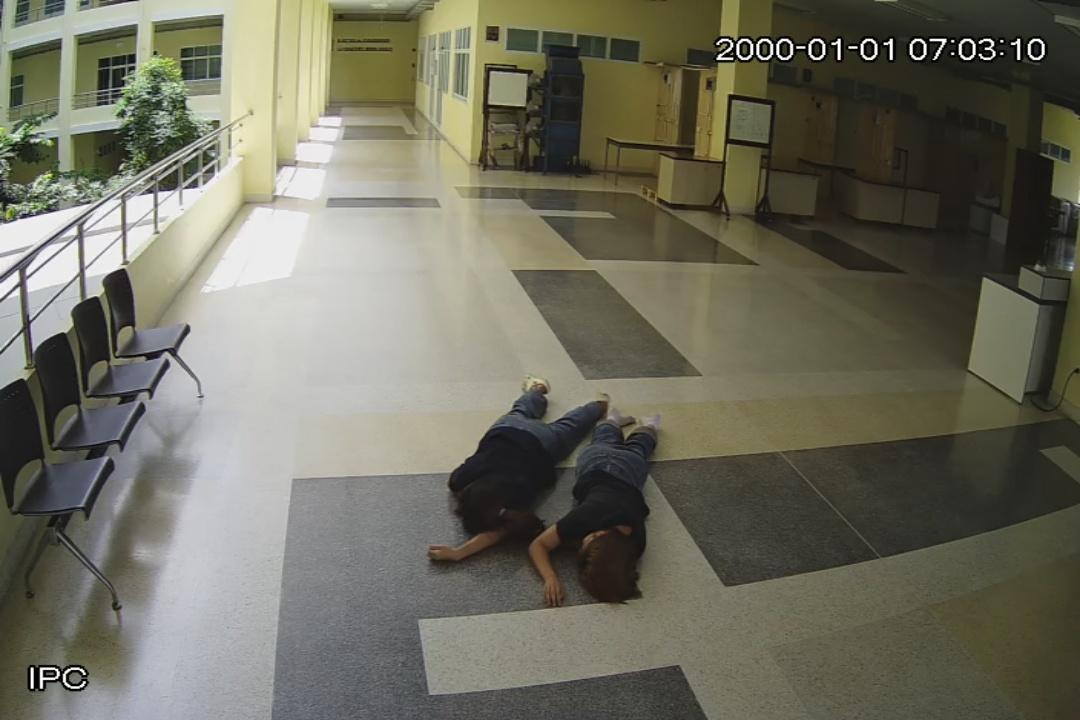fall: (425, 370, 610, 573), (529, 400, 666, 610)
